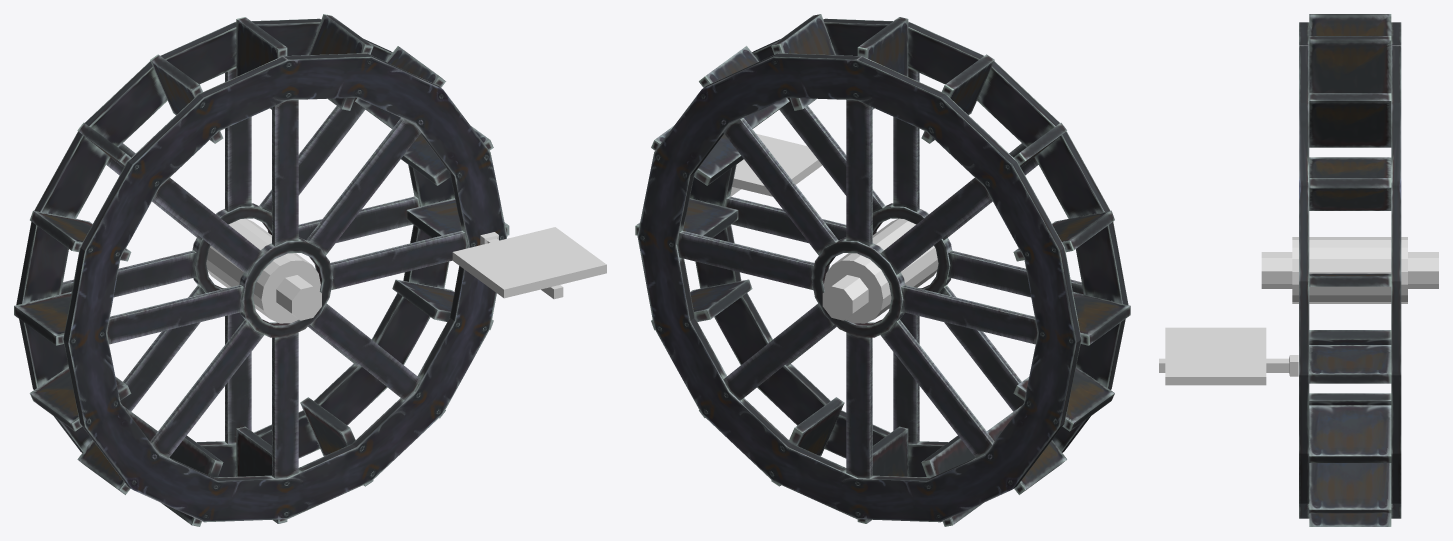
Rendered from WaterWheel.fbx.
3 renders of one model, left to right at view 1: azimuth 30°, elevation 25°; view 2: azimuth 150°, elevation 25°; view 3: azimuth 270°, elevation 25°, orthographic. The views are drawn at different scales.
Visible parts, largest first — view 1: Circle.001, Cube, Cylinder; view 2: Circle.001, Cylinder, Cube; view 3: Circle.001, Cylinder, Cube.
Boxes of the visible parts, x1,y1,x2,y2 form: Circle.001: (14,14,509,526); Cube: (452,227,606,299); Cylinder: (206,218,321,323); Circle.001: (635,14,1130,526); Cylinder: (822,218,938,323); Cube: (730,134,822,196); Circle.001: (1299,14,1401,526); Cylinder: (1261,237,1438,303); Cube: (1159,327,1298,385).
Bounding box in the file's own units: 559 × 531 × 290.
